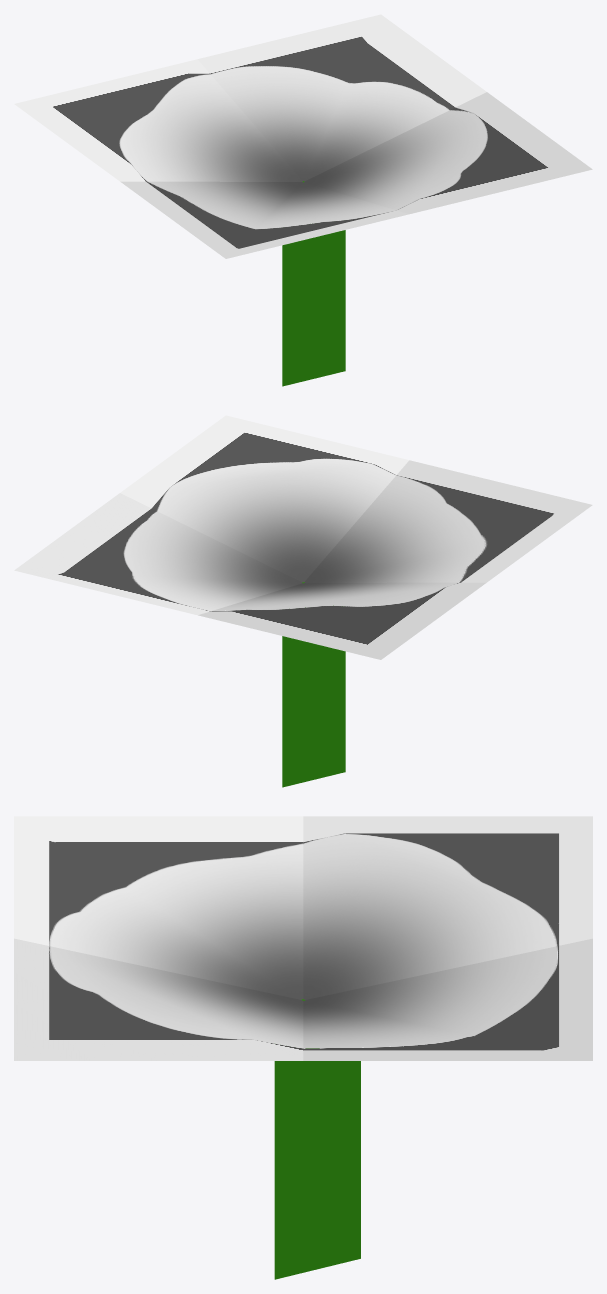
File: Flower01.fbx
3 views of the same model, one above another, from view 1: azimuth 30°, elevation 25°; view 2: azimuth 150°, elevation 25°; view 3: azimuth 270°, elevation 25° (orthographic). The views are drawn at different scales.
Parts seen in each view (by area): view 1: Flower01; view 2: Flower01; view 3: Flower01.
Boxes of the visible parts, x1,y1,x2,y2 form: Flower01: (14,14,592,386); Flower01: (14,415,592,787); Flower01: (14,816,592,1279).
Bounding box in the file's own units: 121 × 73.53 × 121.
